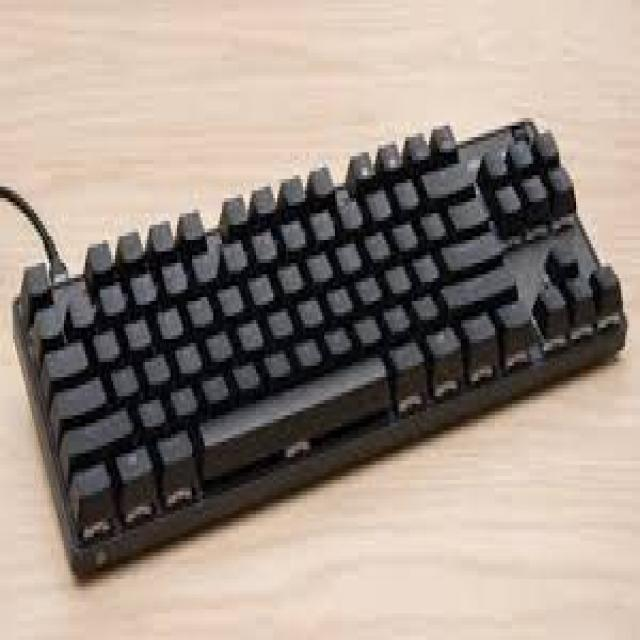others: (11, 69, 627, 568)
